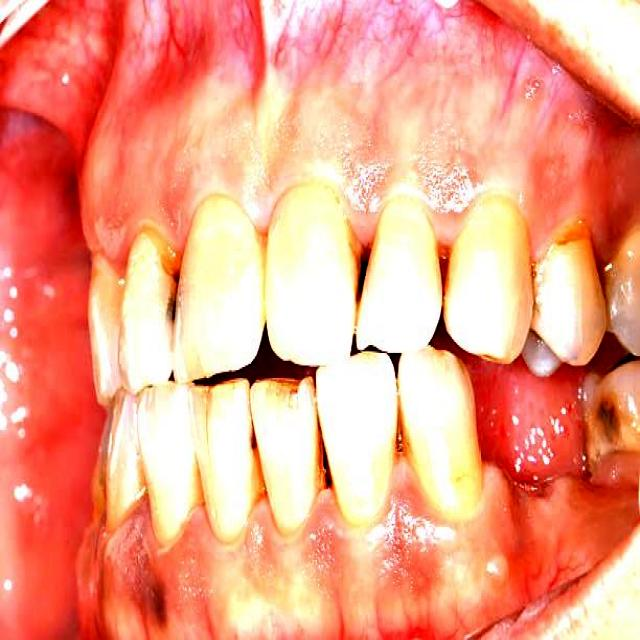gingivitis: (79, 0, 639, 268), (102, 455, 637, 638)
